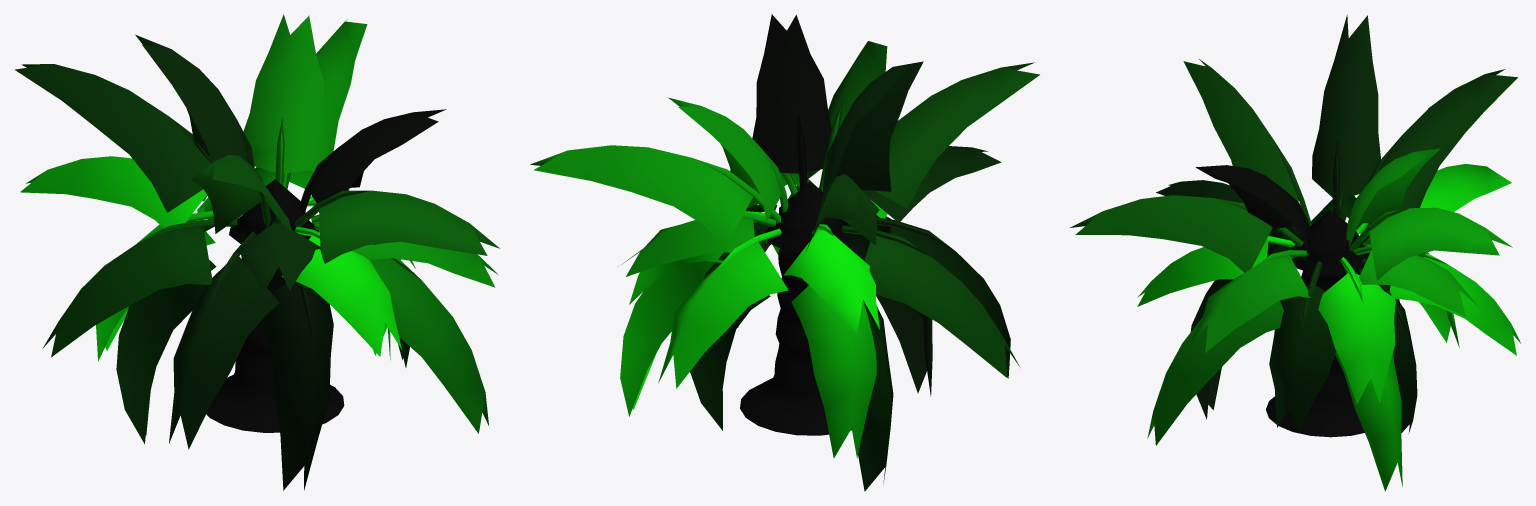
Rendered from M_P10_Tree_4.fbx.
3 views of the same model, side by side, from view 1: azimuth 30°, elevation 25°; view 2: azimuth 150°, elevation 25°; view 3: azimuth 270°, elevation 25° (orthographic). The views are drawn at different scales.
Parts seen in each view (by area): view 1: Palm_1_4; view 2: Palm_1_4; view 3: Palm_1_4.
Part boxes in pixels (box(x1,y1,x2,y2)): Palm_1_4: box(15, 14, 499, 490); Palm_1_4: box(530, 14, 1039, 491); Palm_1_4: box(1070, 15, 1520, 491).
Bounding box in the file's own units: 274 × 272 × 295.
